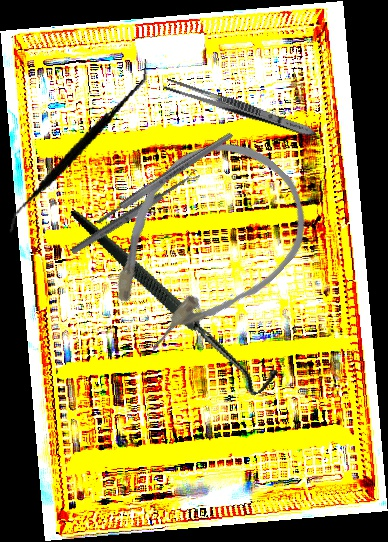Cannula: (71, 113, 332, 377)
Dressing Forceps: (160, 76, 319, 141)
Hook Surgical: (70, 164, 283, 433)
Scalpel Handle: (94, 130, 235, 227)
Spatula Surgical: (6, 40, 150, 252)
Surgical Spoon: (69, 168, 201, 257)
